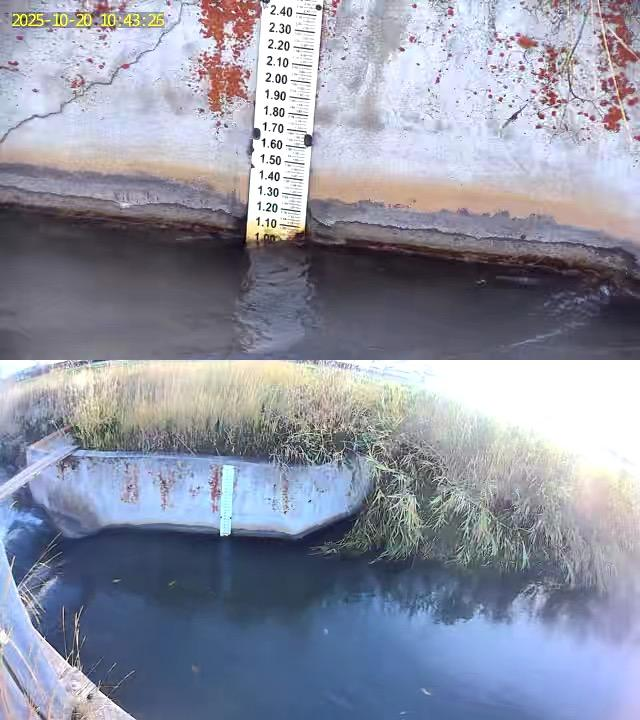1: (239, 226, 322, 255)
Water Level: (116, 240, 478, 244)
staff gauge: (237, 0, 328, 248)
